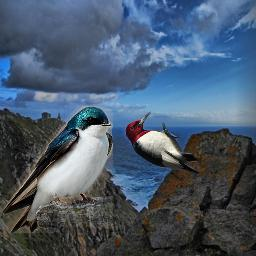Swallow: (1, 106, 113, 233)
Woodpecker: (121, 111, 205, 175)
